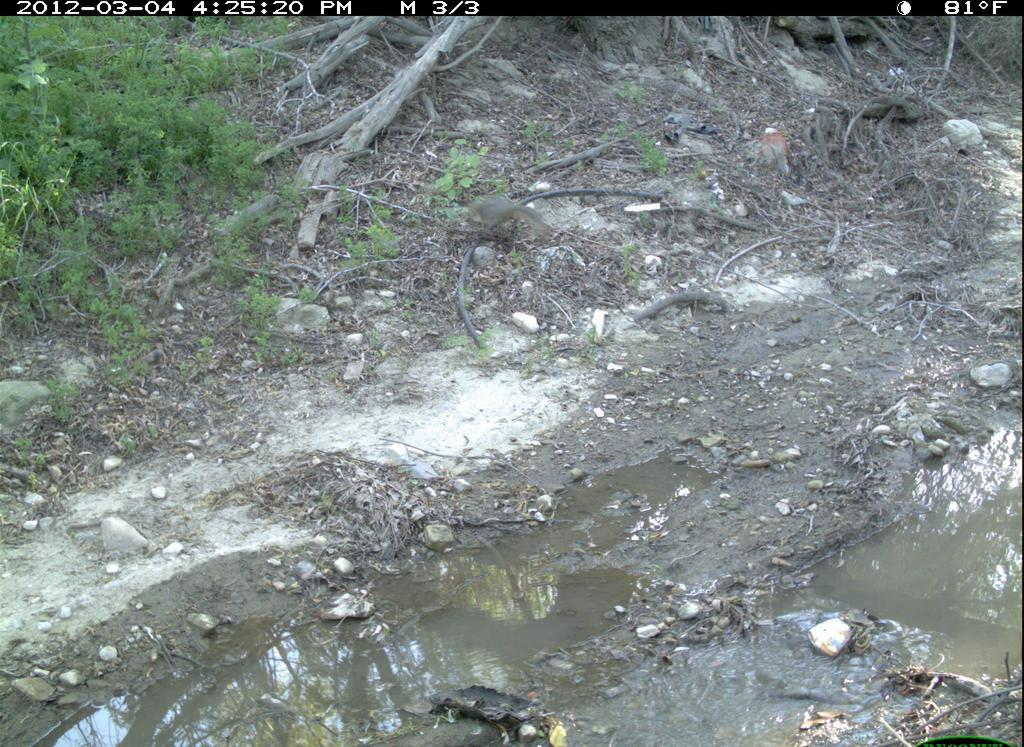squirrel: (463, 175, 565, 250)
